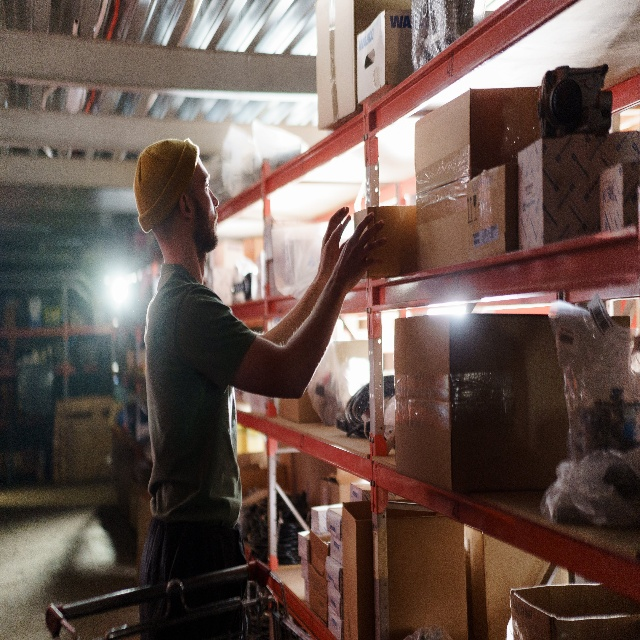Sin_guantes: (335, 212, 387, 292), (319, 206, 351, 280)
